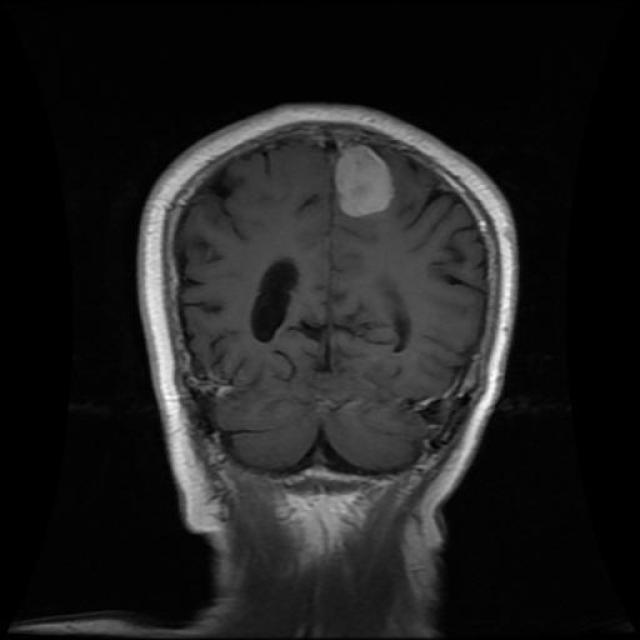Tumor: (330, 142, 399, 224)
